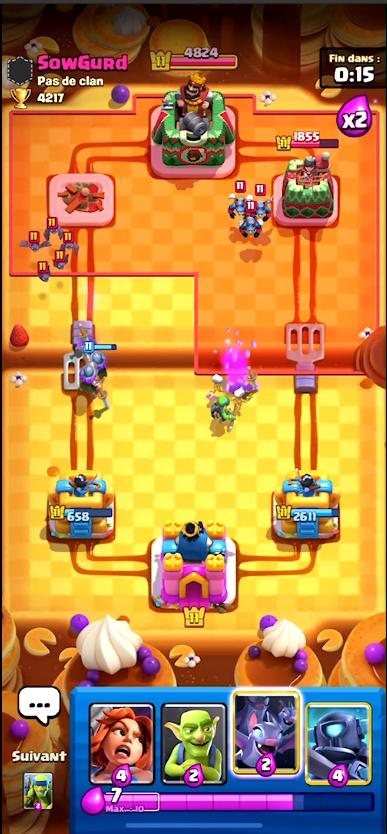bat: (20, 230, 53, 253), (58, 229, 80, 254), (44, 212, 65, 238), (53, 250, 69, 271), (35, 262, 52, 281)
gargouille: (240, 203, 260, 244), (229, 184, 251, 215), (253, 185, 270, 220)
gobelin_lances: (209, 394, 234, 425)
mousquetaire: (85, 339, 111, 374), (79, 360, 100, 393)
squelette: (229, 385, 248, 402), (209, 374, 228, 390)
